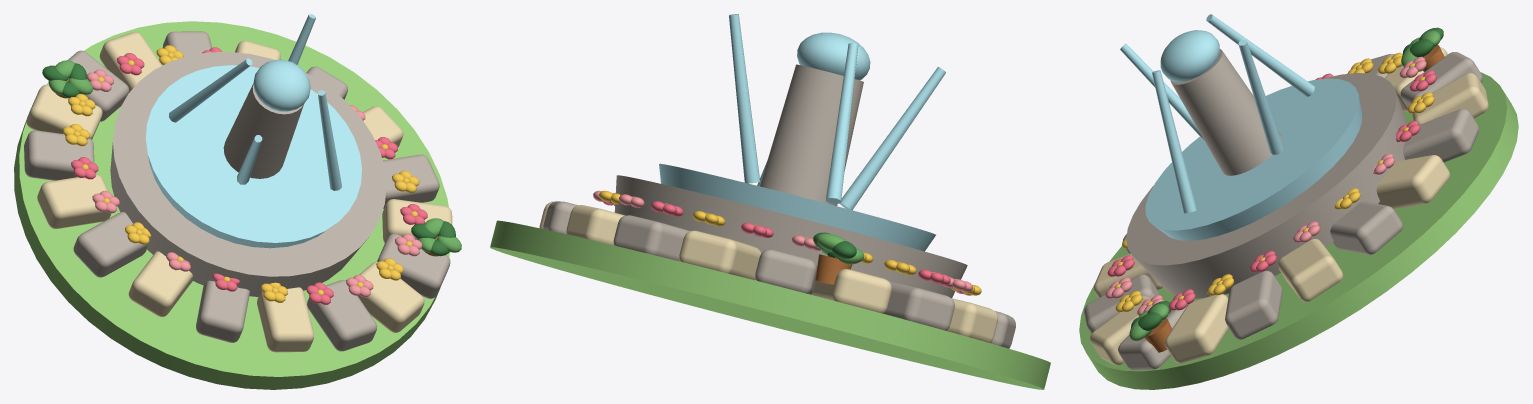
Rendered from fountain.glb.
The picture shows the model from 3 angles, left to right: view 1: azimuth 30°, elevation 25°; view 2: azimuth 150°, elevation 25°; view 3: azimuth 270°, elevation 25°; orthographic projection. The views are drawn at different scales.
Size of the model in its own units: 1.71 by 1.29 by 1.52.
